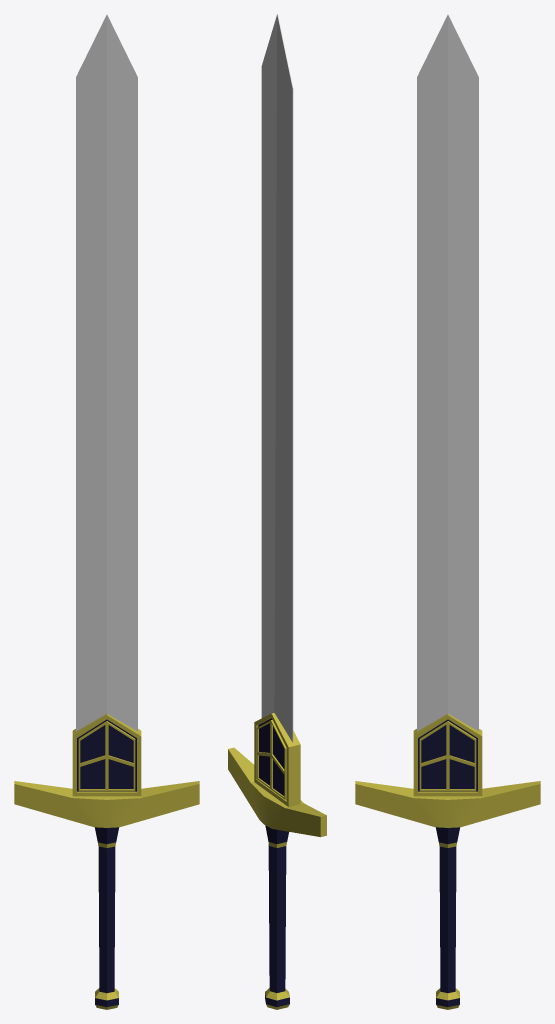
Rendered from Legendary_Sword.fbx.
3 renders of one model, left to right at view 1: azimuth 90°, elevation 25°; view 2: azimuth 210°, elevation 25°; view 3: azimuth 270°, elevation 25°, orthographic.
Visible parts, largest first — view 1: Box001; view 2: Box001; view 3: Box001.
Boxes of the visible parts, x1=… form: Box001: x1=14, y1=14, x2=199, y2=1009; Box001: x1=228, y1=14, x2=326, y2=1009; Box001: x1=355, y1=14, x2=540, y2=1009.
Bounding box in the file's own units: 3 × 106 × 18.
